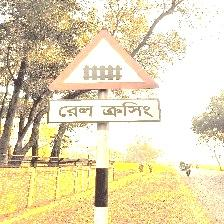Rail-crossing: (47, 31, 162, 127)
